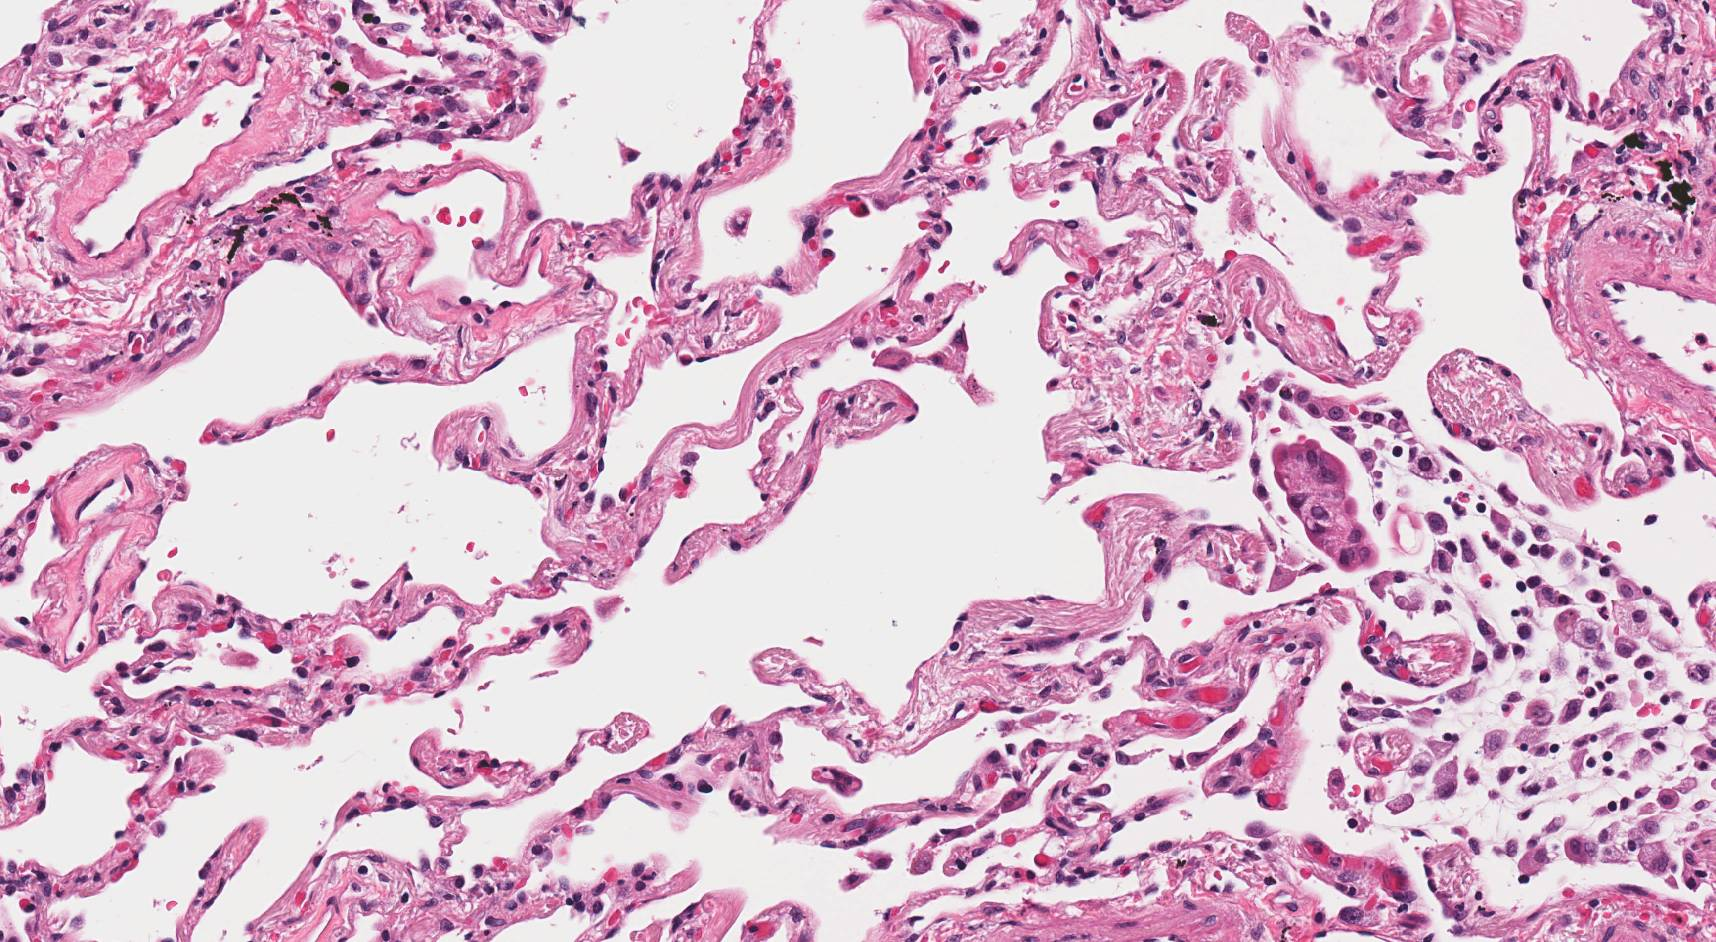stas: (1273, 441, 1380, 573)
